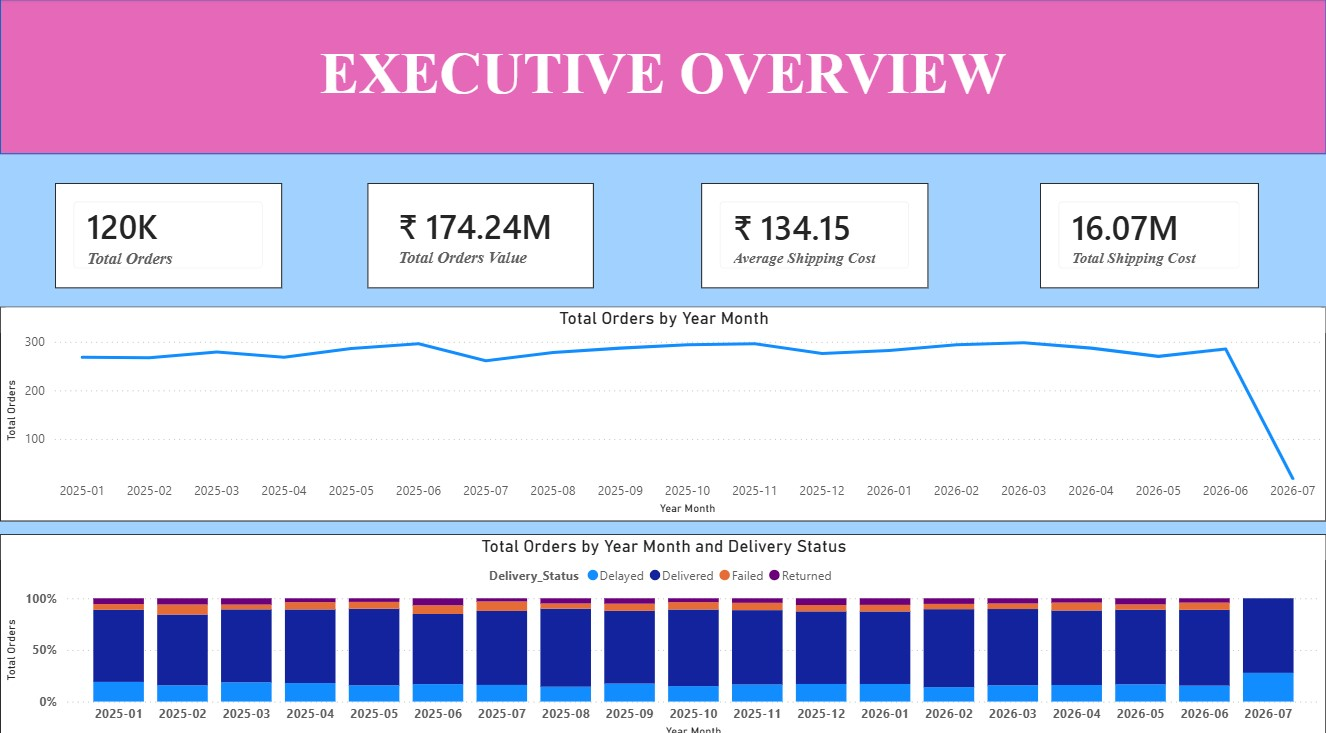

This screenshot's page, from the dashboard's own definition file:
{"tool":"powerbi","page":{"name":"Executive Overview","canvas":[1280,720],"ordinal":0},"visuals":[{"type":"cardVisual","fields":{"Data":["Fact_Deliveries.Total Orders"]},"box":[53.1,178.6,219.6,101.3],"z":0},{"type":"cardVisual","fields":{"Data":["Fact_Deliveries.Total Shipping Cost"]},"box":[1003.8,178.6,211.1,101.3],"z":1000},{"type":"cardVisual","fields":{"Data":["Fact_Deliveries.Total Orders Value"]},"box":[354.7,178.6,218.4,101.3],"z":2000},{"type":"cardVisual","fields":{"Data":["Fact_Deliveries.Average Shipping Cost"]},"box":[676.8,178.6,219.6,101.3],"z":3000},{"type":"lineChart","fields":{"Category":["Dim_Date.Year Month"],"Y":["Fact_Deliveries.Total Orders"]},"box":[0,297.8,1280.3,207.2],"z":4000},{"type":"hundredPercentStackedColumnChart","title":"Total Orders by Year Month and Delivery Status","fields":{"Category":["Dim_Date.Year Month"],"Y":["Fact_Deliveries.Total Orders"],"Series":["Fact_Deliveries.Delivery_Status"]},"box":[0,517.6,1280,202.7],"z":5000},{"type":"shape","box":[0,1.4,1280.3,149.6],"z":6000},{"type":"textbox","box":[0,35.7,1280.3,78.2],"z":7000}]}

Visuals, with their boxes in screenshot pixels (x1, y1, x2, y2), scaled from the page's 1280x720 canvas onto the 1326x733 screenshot:
cardVisual - Fact_Deliveries.Total Orders: rect(55, 182, 283, 285)
cardVisual - Fact_Deliveries.Total Shipping Cost: rect(1040, 182, 1259, 285)
cardVisual - Fact_Deliveries.Total Orders Value: rect(367, 182, 594, 285)
cardVisual - Fact_Deliveries.Average Shipping Cost: rect(701, 182, 929, 285)
lineChart - Dim_Date.Year Month x Fact_Deliveries.Total Orders: rect(0, 303, 1325, 514)
"Total Orders by Year Month and Delivery Status" hundredPercentStackedColumnChart: rect(0, 527, 1325, 732)
shape: rect(0, 1, 1325, 154)
textbox: rect(0, 36, 1325, 116)
